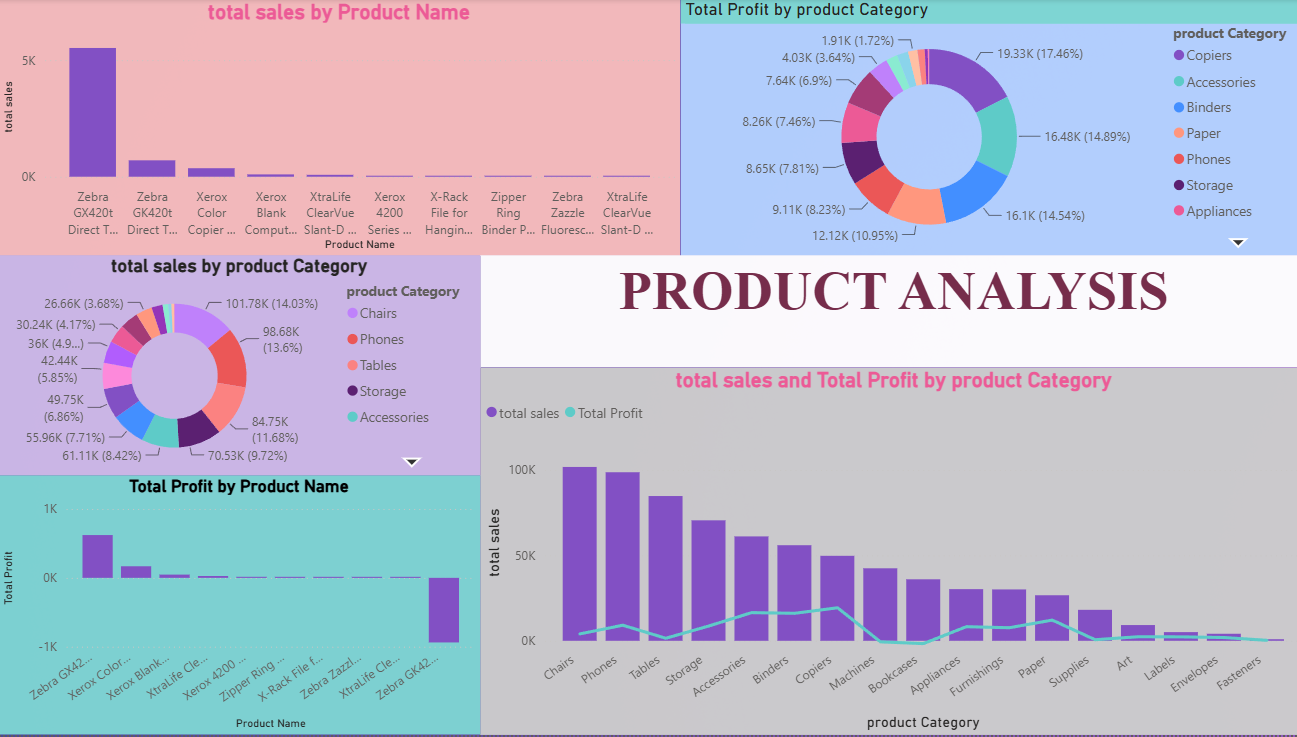

Layout of this report page (visuals, bound fields, positions):
{"tool":"powerbi","page":{"name":"PRODUCT ANALYSIS","canvas":[1280,720],"ordinal":1},"visuals":[{"type":"clusteredColumnChart","fields":{"Y":["Walmart (2).total sales"],"Category":["Walmart (2).Product Name"]},"box":[0,0,667.1,250.9],"z":0},{"type":"clusteredColumnChart","fields":{"Y":["Walmart (2).Total Profit"],"Category":["Walmart (2).Product Name"]},"box":[0,466.1,471.8,253.7],"z":1000},{"type":"donutChart","fields":{"Category":["Walmart (2).product Category"],"Y":["Walmart (2).total sales"]},"box":[0,250.9,471.8,215.2],"z":2000},{"type":"donutChart","fields":{"Category":["Walmart (2).product Category"],"Y":["Walmart (2).Total Profit"]},"box":[667.1,0,612.9,250.9],"z":3000},{"type":"lineClusteredColumnComboChart","fields":{"Category":["Walmart (2).product Category"],"Y":["Walmart (2).total sales"],"Y2":["Walmart (2).Total Profit"]},"box":[471.8,360.6,808.2,359.2],"z":4000},{"type":"textbox","box":[471.8,250.9,808.2,109.8],"z":5000}]}

Visuals, with their boxes in screenshot pixels (x1, y1, x2, y2), scaled from the page's 1280x720 canvas onto the 1297x737 screenshot:
clusteredColumnChart - Walmart (2).total sales x Walmart (2).Product Name: pyautogui.locateOnScreen(0, 0, 676, 257)
clusteredColumnChart - Walmart (2).Total Profit x Walmart (2).Product Name: pyautogui.locateOnScreen(0, 477, 478, 736)
donutChart - Walmart (2).product Category x Walmart (2).total sales: pyautogui.locateOnScreen(0, 257, 478, 477)
donutChart - Walmart (2).product Category x Walmart (2).Total Profit: pyautogui.locateOnScreen(676, 0, 1296, 257)
lineClusteredColumnComboChart - Walmart (2).product Category x Walmart (2).total sales: pyautogui.locateOnScreen(478, 369, 1296, 736)
textbox: pyautogui.locateOnScreen(478, 257, 1296, 369)
